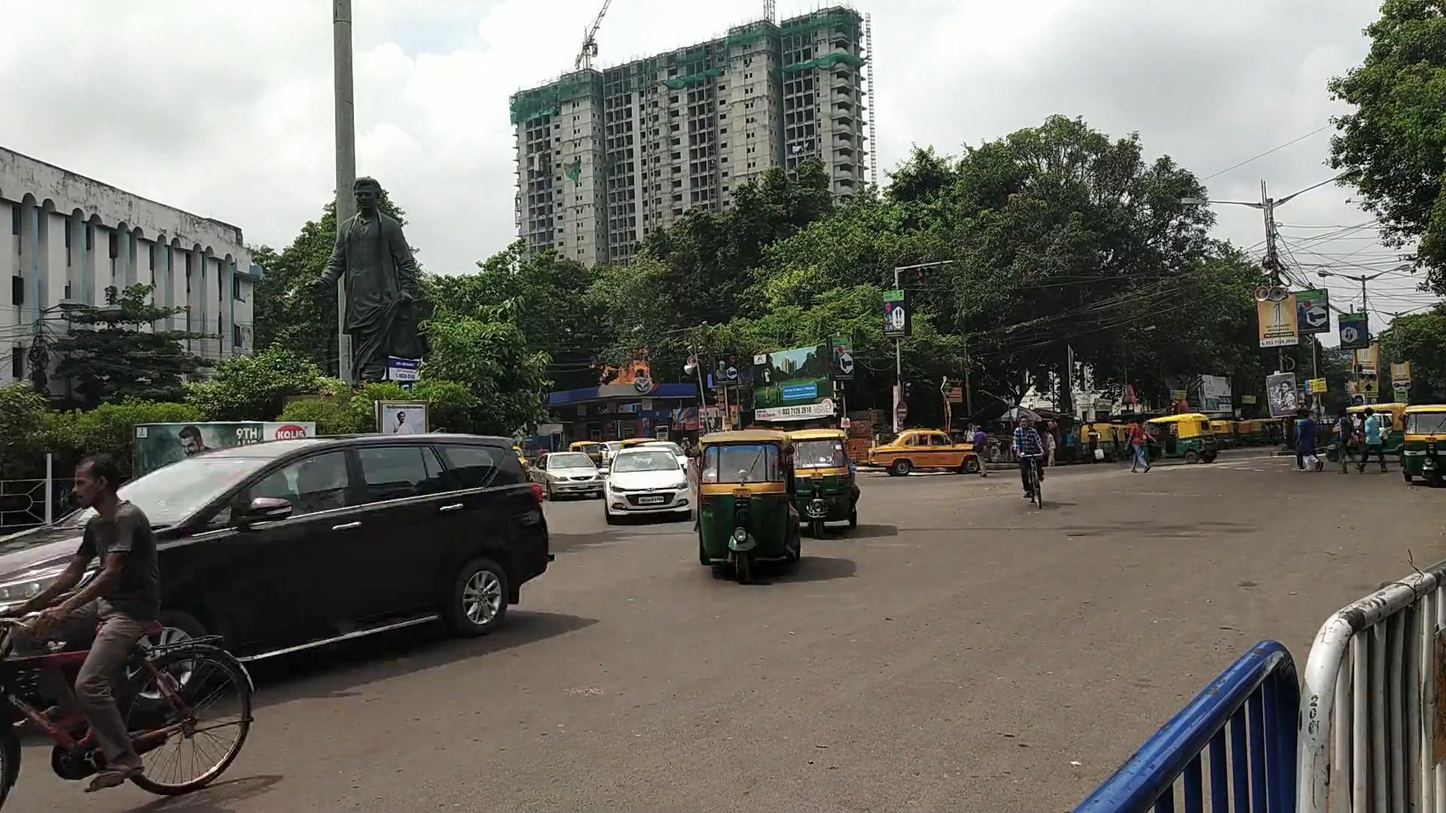bicyclist: (1, 453, 256, 813), (1013, 416, 1045, 509)
no-helmet: (71, 453, 121, 511)
